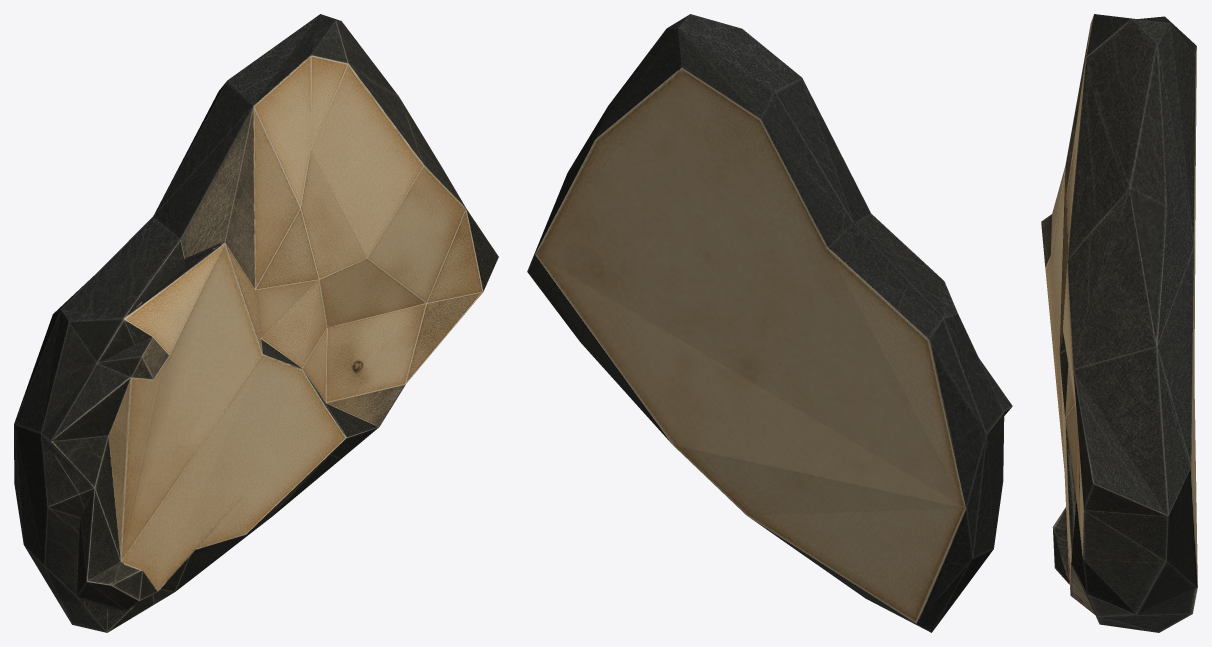
File: impact-shard.glb
The picture shows the model from 3 angles, left to right: view 1: azimuth 30°, elevation 25°; view 2: azimuth 150°, elevation 25°; view 3: azimuth 270°, elevation 25°; orthographic projection. The views are drawn at different scales.
Bounding box in the file's own units: 1.66 × 1.89 × 0.3522.
Materials: 1 (1 with a texture image).
